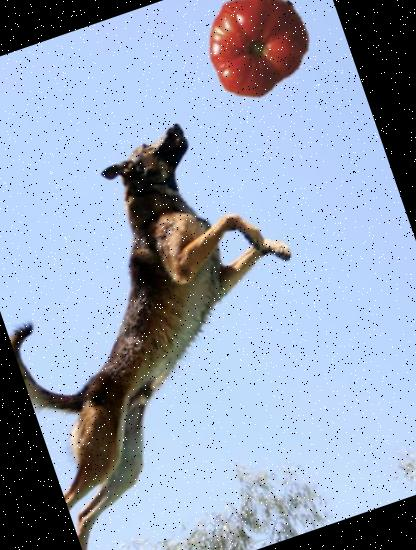Tomato: (186, 0, 325, 113)
